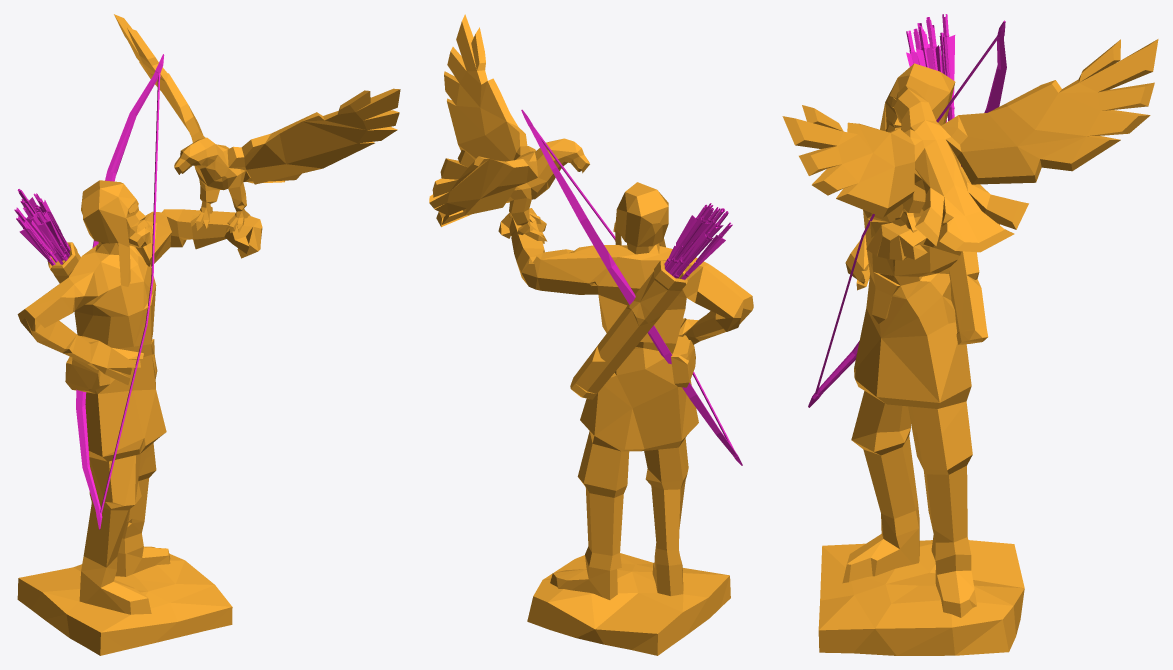
The model's file is SM_Statue_Archer_Falconer_Fantasy.fbx.
The picture shows the model from 3 angles, left to right: view 1: azimuth 30°, elevation 25°; view 2: azimuth 150°, elevation 25°; view 3: azimuth 270°, elevation 25°; orthographic projection. The views are drawn at different scales.
Visible parts, largest first — view 1: SM_Statue_Archer_Falconer_Fantasy; view 2: SM_Statue_Archer_Falconer_Fantasy; view 3: SM_Statue_Archer_Falconer_Fantasy.
Boxes of the visible parts, x1,y1,x2,y2 form: SM_Statue_Archer_Falconer_Fantasy: [14, 14, 400, 655]; SM_Statue_Archer_Falconer_Fantasy: [429, 14, 753, 655]; SM_Statue_Archer_Falconer_Fantasy: [782, 14, 1158, 655].
Size of the model in its own units: 1.57 by 2.28 by 1.22.
